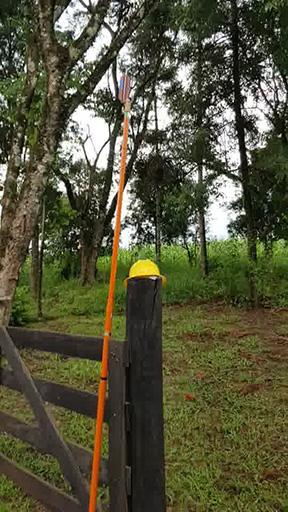Detector_Tensao_Contato: (118, 65, 132, 105)
Vara_Manobra: (88, 103, 133, 512)
